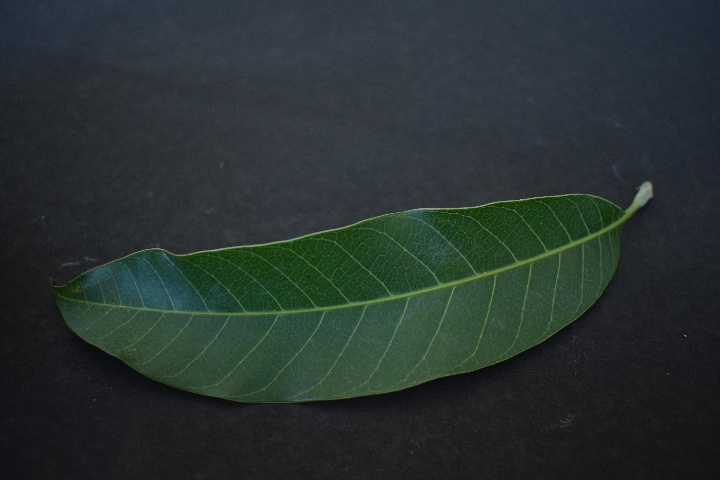healthy: (69, 191, 629, 404)
